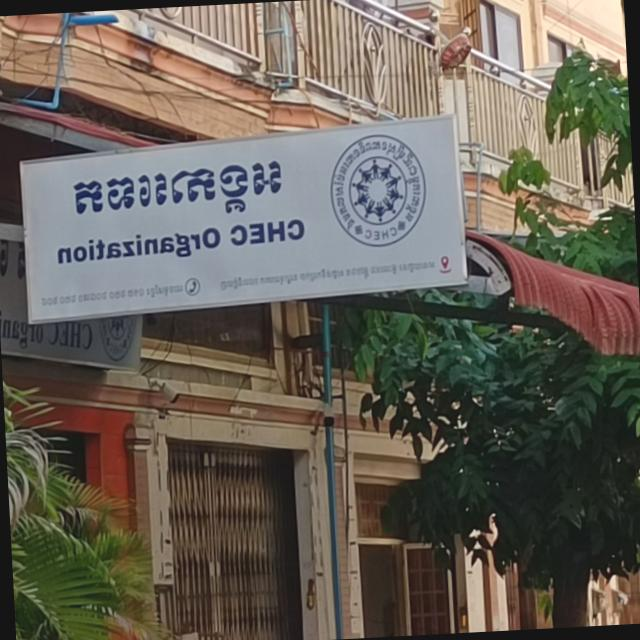Yolov11kh: (66, 150, 287, 226)
